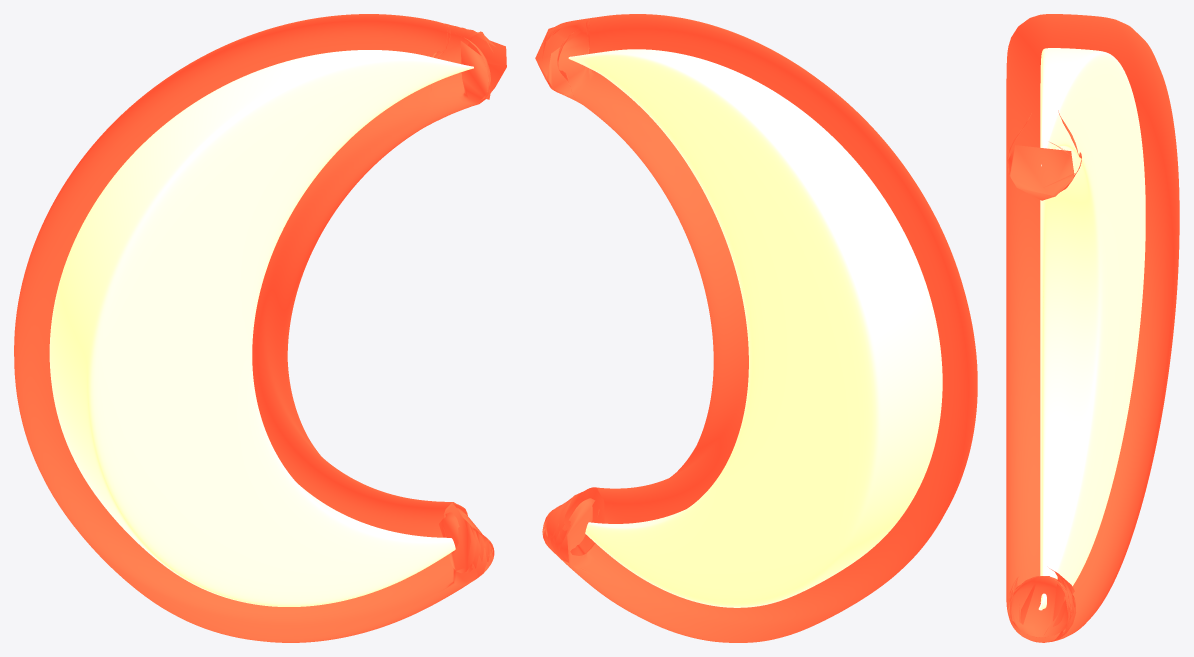
File: moon.glb
3 renders of one model, left to right at view 1: azimuth 30°, elevation 25°; view 2: azimuth 150°, elevation 25°; view 3: azimuth 270°, elevation 25°, orthographic. The views are drawn at different scales.
Visible parts, largest first — view 1: moon; view 2: moon; view 3: moon.
Part boxes in pixels (x1,y1,x2,y2): moon: (14, 14, 506, 642); moon: (535, 14, 977, 642); moon: (1006, 14, 1179, 642).
Bounding box in the file's own units: 0.3373 × 0.4339 × 0.1195.
